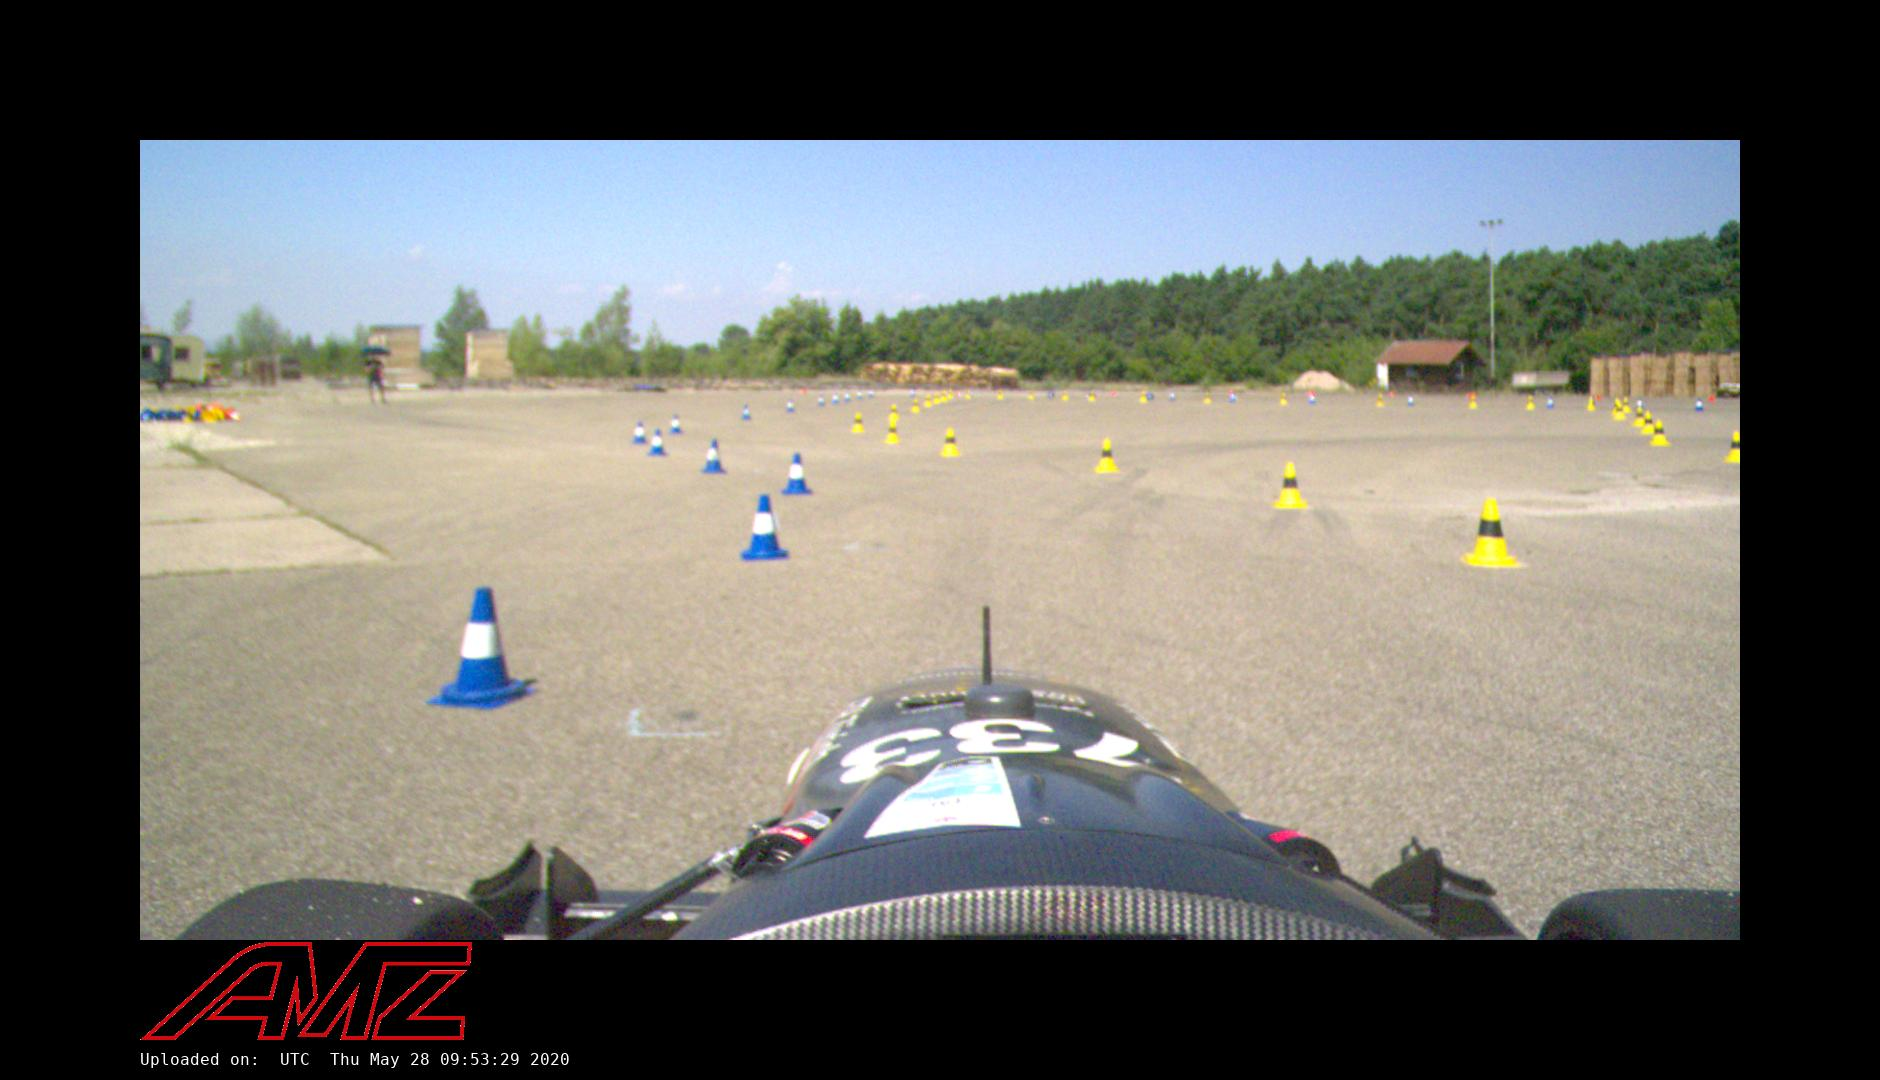blue_cone: (425, 587, 535, 713), (739, 493, 790, 559), (780, 452, 811, 493), (701, 438, 726, 474), (647, 429, 666, 456), (631, 420, 646, 443), (669, 413, 682, 434), (740, 404, 751, 420), (786, 398, 795, 413), (1695, 397, 1704, 411), (1406, 394, 1415, 406), (1547, 397, 1555, 408)
yellow_cone: (1466, 497, 1518, 567), (1274, 462, 1307, 509), (1094, 438, 1118, 473), (940, 428, 961, 459), (1650, 420, 1670, 447), (1725, 431, 1739, 462), (884, 420, 901, 444), (1642, 411, 1657, 435), (851, 412, 865, 433), (1633, 407, 1648, 428), (1614, 402, 1627, 421), (888, 404, 901, 420), (1524, 395, 1537, 410), (1586, 395, 1597, 411), (910, 398, 921, 413), (1376, 393, 1385, 408), (1469, 395, 1478, 410)
